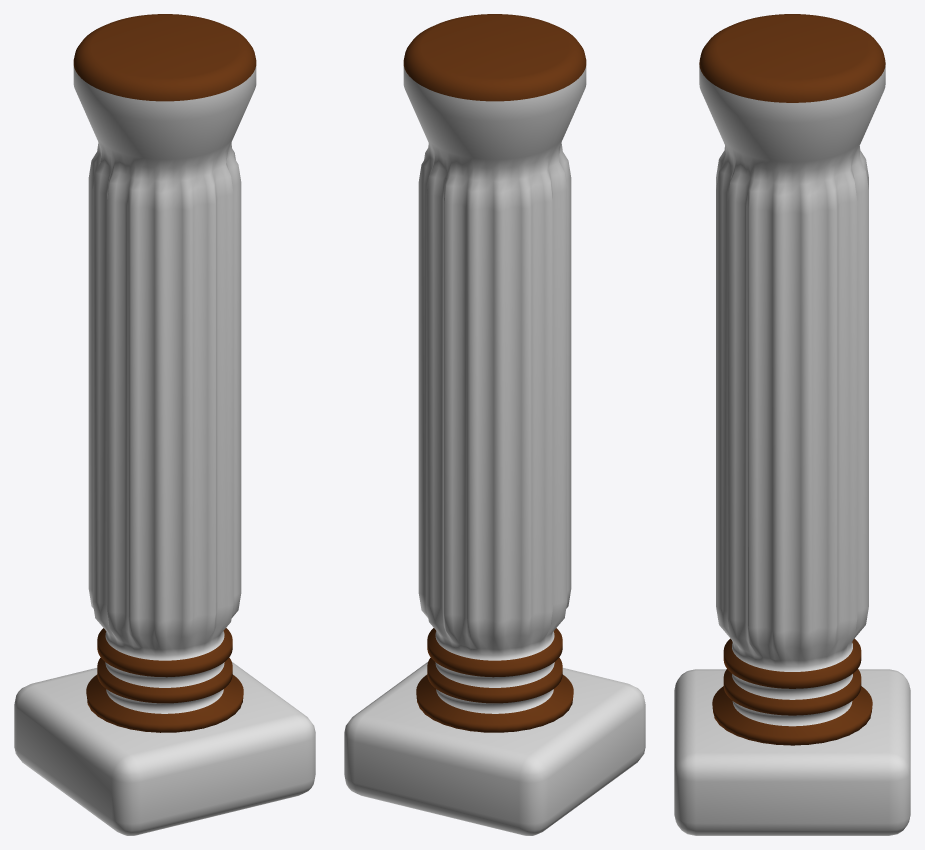
File: clean column.fbx
3 renders of one model, left to right at view 1: azimuth 30°, elevation 25°; view 2: azimuth 150°, elevation 25°; view 3: azimuth 270°, elevation 25°, orthographic.
Visible parts, largest first — view 1: column; view 2: column; view 3: column.
Part boxes in pixels (x1,y1,x2,y2): column: (14,14,315,835); column: (344,14,645,835); column: (674,14,910,835).
Size of the model in its own units: 321 by 1117 by 321.
